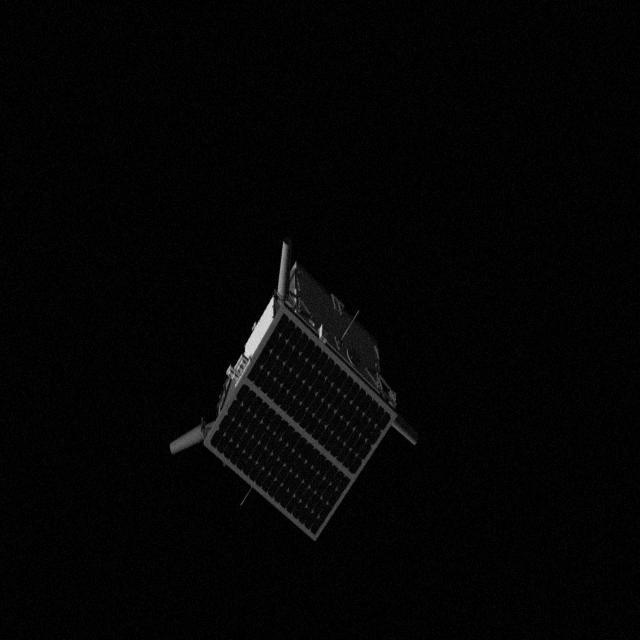satellite: (166, 230, 422, 546)
